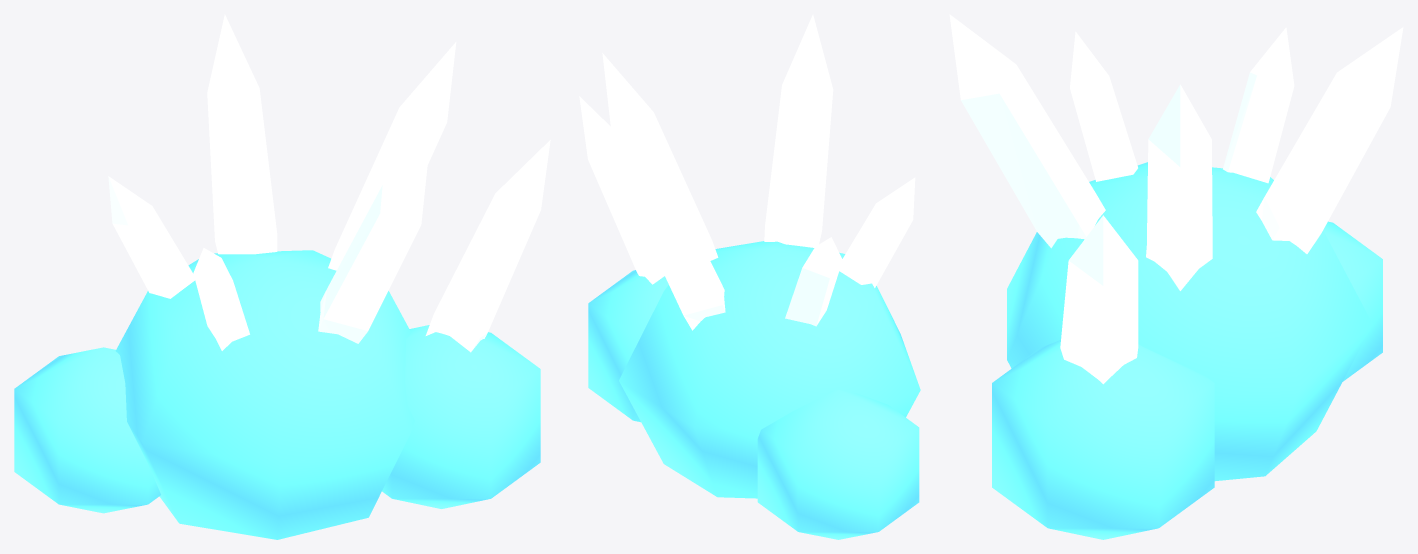
The model's file is dc_shard_sac.glb.
3 views of the same model, side by side, from view 1: azimuth 30°, elevation 25°; view 2: azimuth 150°, elevation 25°; view 3: azimuth 270°, elevation 25° (orthographic). The views are drawn at different scales.
Parts seen in each view (by area): view 1: part.dc_shard_sac; view 2: part.dc_shard_sac; view 3: part.dc_shard_sac.
Part boxes in pixels (x1=…): part.dc_shard_sac: x1=14, y1=14, x2=550, y2=539; part.dc_shard_sac: x1=579, y1=14, x2=920, y2=539; part.dc_shard_sac: x1=949, y1=14, x2=1403, y2=539.
Bounding box in the file's own units: 0.4375 × 0.4249 × 0.3537.
